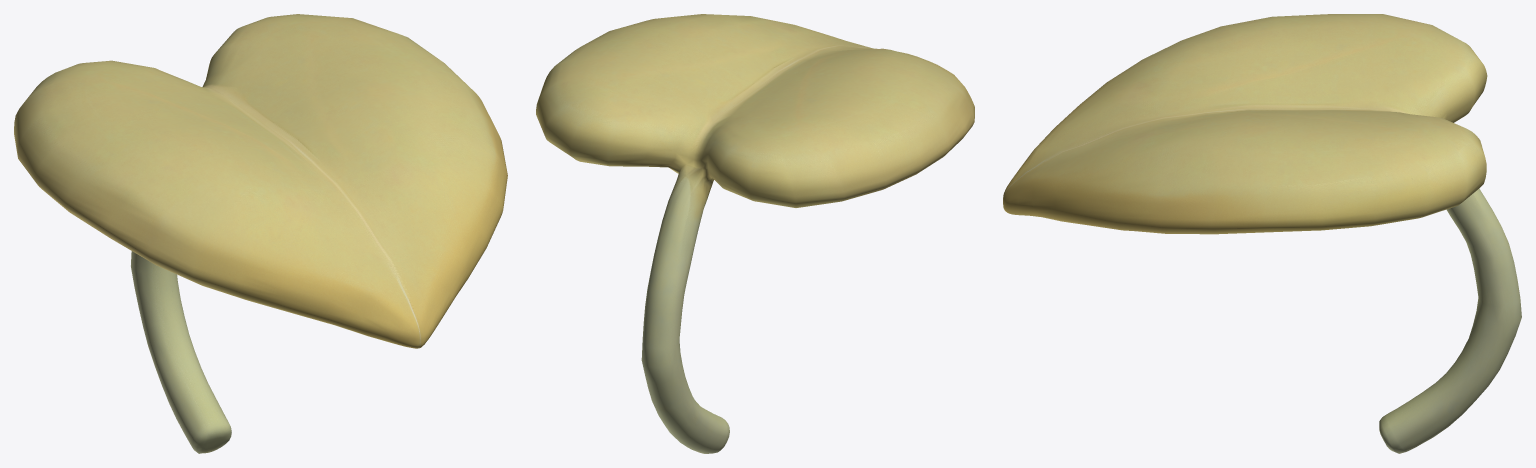
The model's file is heart_lime_2672_0_v2.glb.
3 renders of one model, left to right at view 1: azimuth 30°, elevation 25°; view 2: azimuth 150°, elevation 25°; view 3: azimuth 270°, elevation 25°, orthographic. The views are drawn at different scales.
Parts seen in each view (by area): view 1: world; view 2: world; view 3: world.
Part boxes in pixels (left/top/right/bottom): world: left=14, top=14, right=507, bottom=453; world: left=536, top=14, right=974, bottom=453; world: left=1003, top=14, right=1521, bottom=453.
Bounding box in the file's own units: 1.71 × 1.57 × 2.
Materials: 1 (1 with a texture image).
